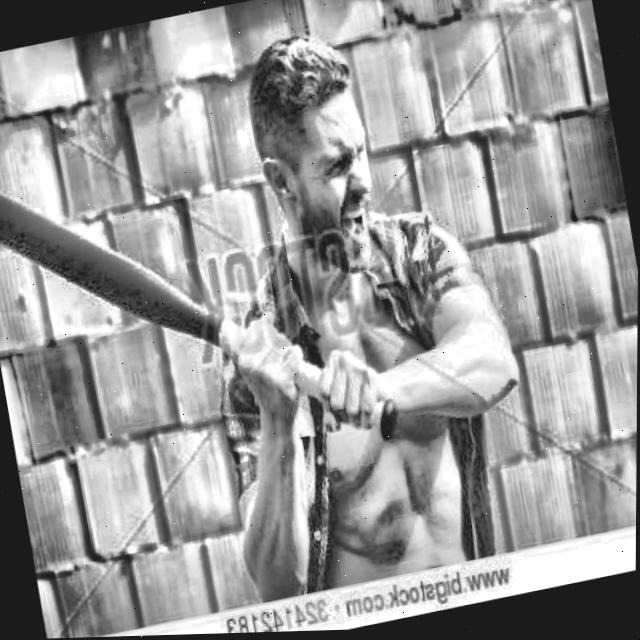tongkat pemukul: (0, 186, 413, 443)
